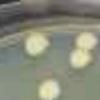yellow: (70, 30, 100, 51), (22, 33, 47, 56), (67, 50, 96, 68), (40, 78, 62, 100)
